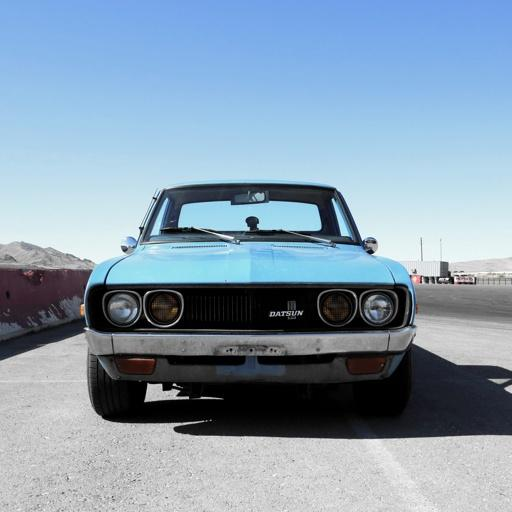sedan: (83, 181, 415, 416)
